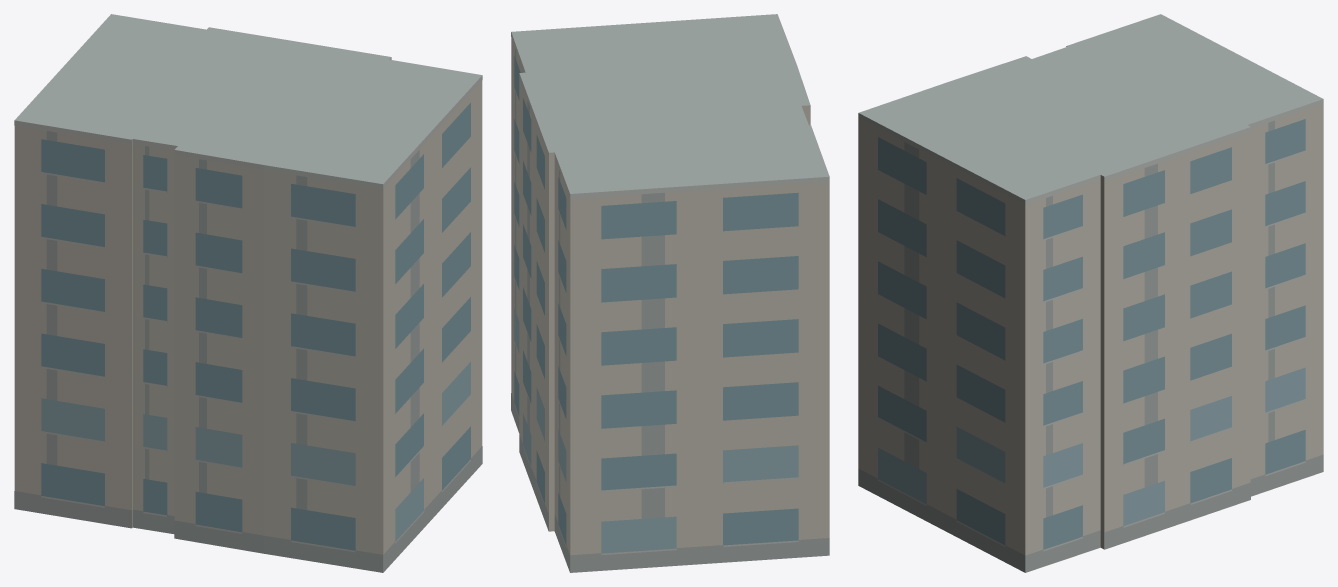
File: survey-upis-32960570.glb
The picture shows the model from 3 angles, left to right: view 1: azimuth 30°, elevation 25°; view 2: azimuth 150°, elevation 25°; view 3: azimuth 270°, elevation 25°; orthographic projection. The views are drawn at different scales.
Visible parts, largest first — view 1: survey-upis-32960570.tmp; view 2: survey-upis-32960570.tmp; view 3: survey-upis-32960570.tmp.
Part boxes in pixels (bbox=[...]): survey-upis-32960570.tmp: bbox=[14, 14, 482, 572]; survey-upis-32960570.tmp: bbox=[511, 14, 829, 572]; survey-upis-32960570.tmp: bbox=[858, 14, 1323, 572].
Bounding box in the file's own units: 19.69 × 18.4 × 20.81.
